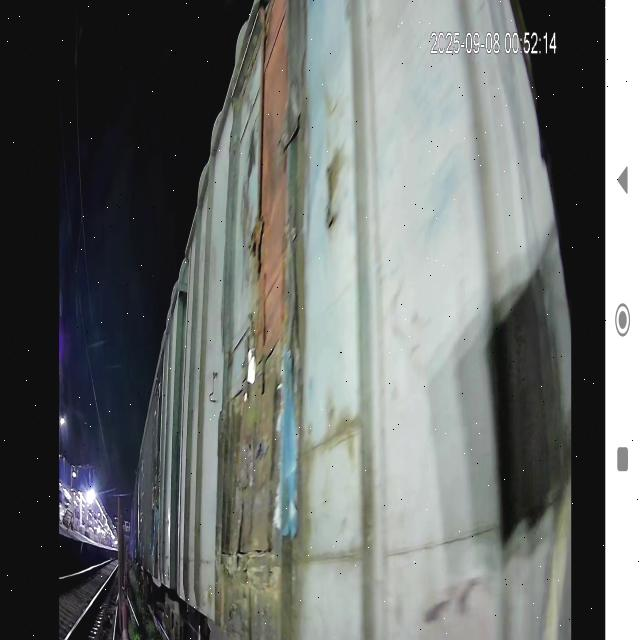coach: (181, 0, 575, 640)
